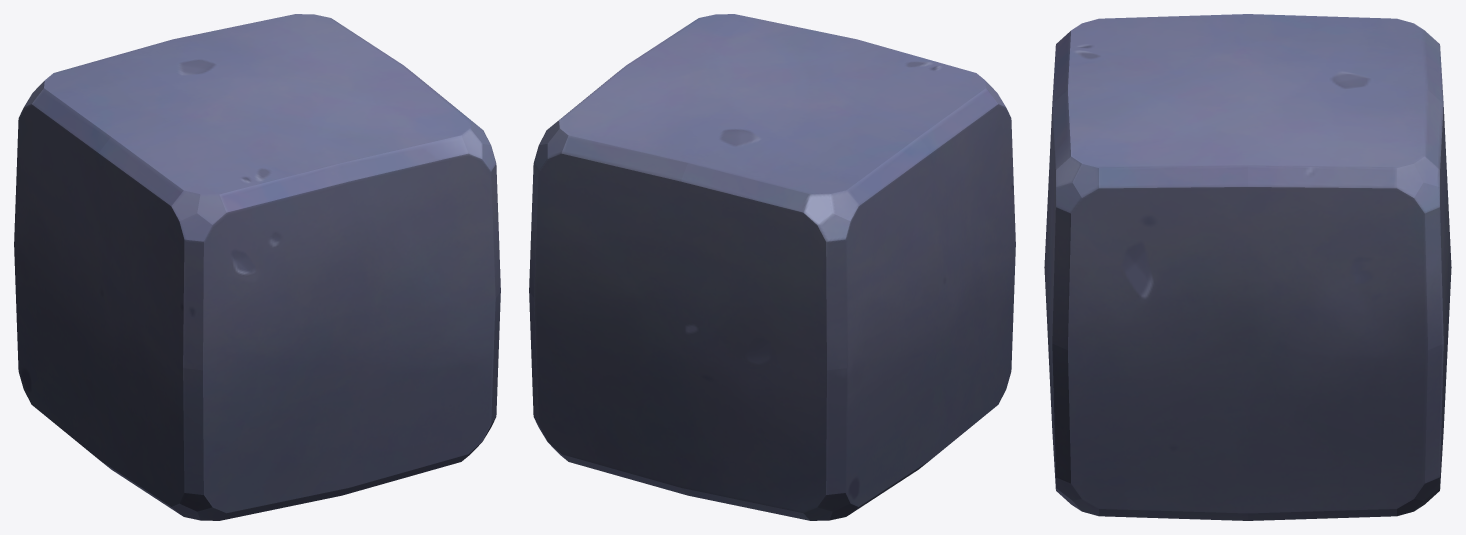
The model's file is stone.fbx.
3 renders of one model, left to right at view 1: azimuth 30°, elevation 25°; view 2: azimuth 150°, elevation 25°; view 3: azimuth 270°, elevation 25°, orthographic. The views are drawn at different scales.
Parts seen in each view (by area): view 1: Cube; view 2: Cube; view 3: Cube.
Boxes of the visible parts, box(x1,y1,x2,y2) form: Cube: box(14, 14, 500, 520); Cube: box(529, 14, 1015, 520); Cube: box(1044, 14, 1451, 520).
Bounding box in the file's own units: 200 × 200 × 200.
